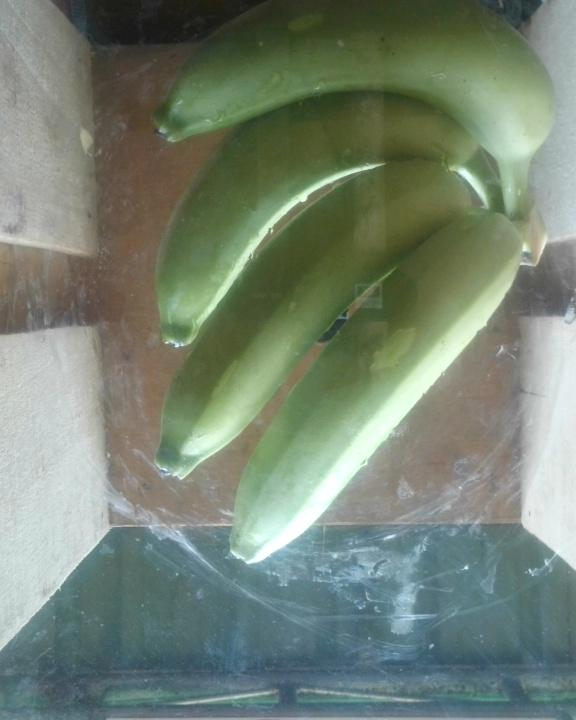SPOT: (125, 1, 576, 579)
